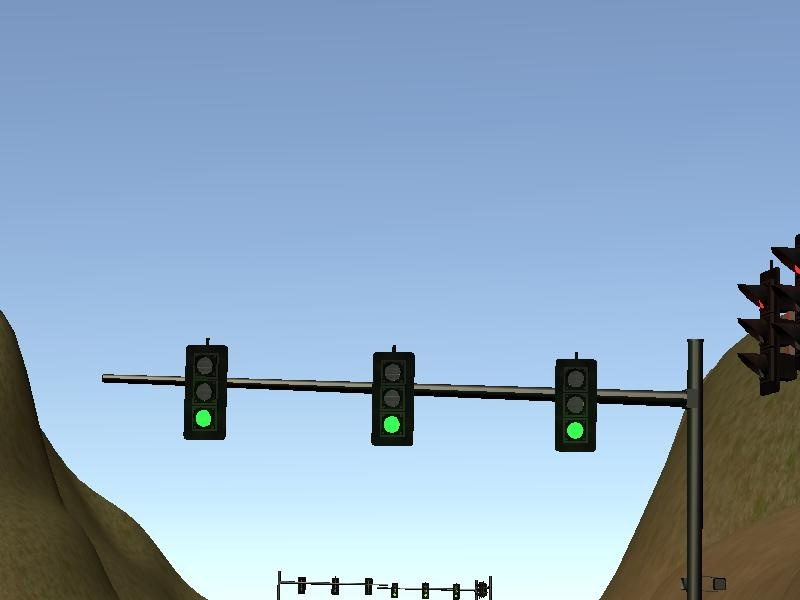green: (182, 341, 229, 442), (554, 355, 600, 452), (371, 348, 415, 448)
